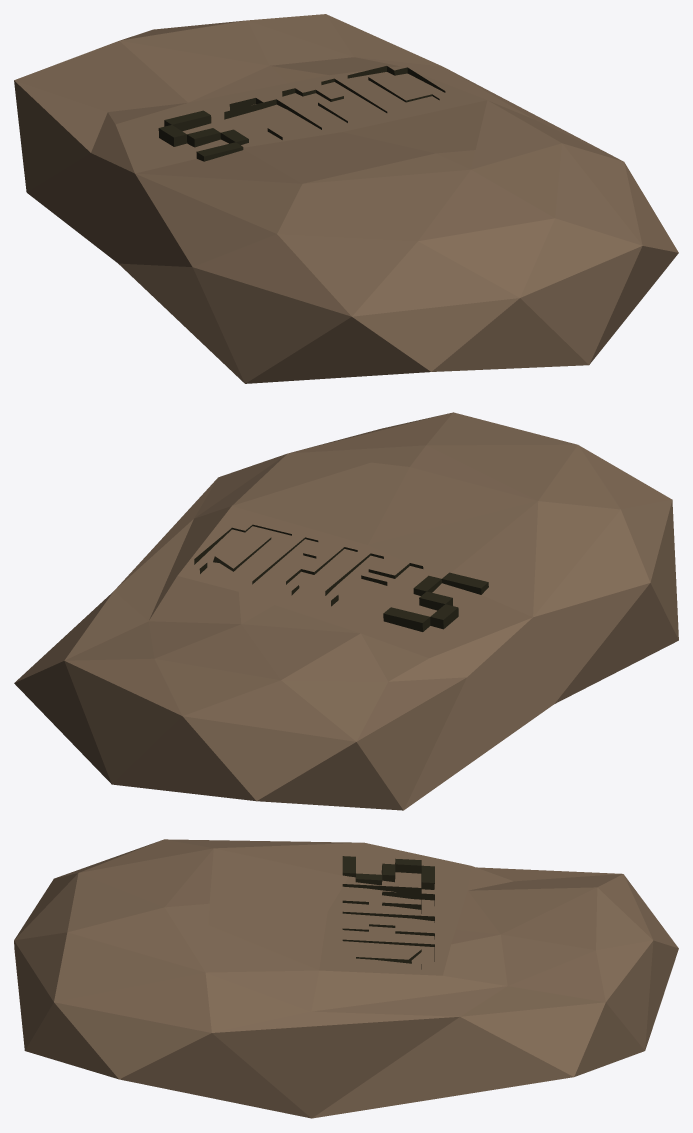
File: Zandzak2.fbx
The picture shows the model from 3 angles, top to bottom: view 1: azimuth 30°, elevation 25°; view 2: azimuth 150°, elevation 25°; view 3: azimuth 270°, elevation 25°; orthographic projection. The views are drawn at different scales.
Visible parts, largest first — view 1: Icosphere.001; view 2: Icosphere.001; view 3: Icosphere.001.
Boxes of the visible parts, x1,y1,x2,y2 form: Icosphere.001: [14, 14, 678, 383]; Icosphere.001: [14, 412, 678, 810]; Icosphere.001: [14, 839, 678, 1118].
Bounding box in the file's own units: 175 × 62.23 × 267.
